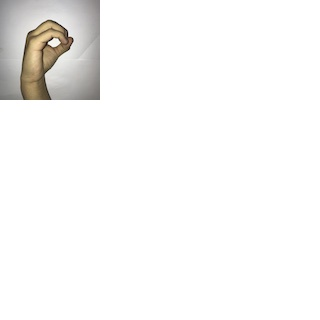rock: (16, 15, 73, 84)
